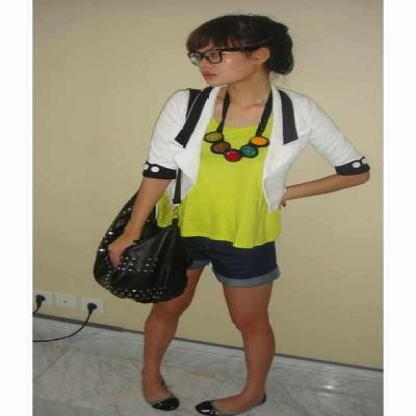bag: (94, 190, 186, 303)
jacket: (143, 82, 369, 200)
shirt: (155, 125, 281, 247)
shoe: (152, 394, 220, 416)
shorts: (169, 236, 278, 294)
